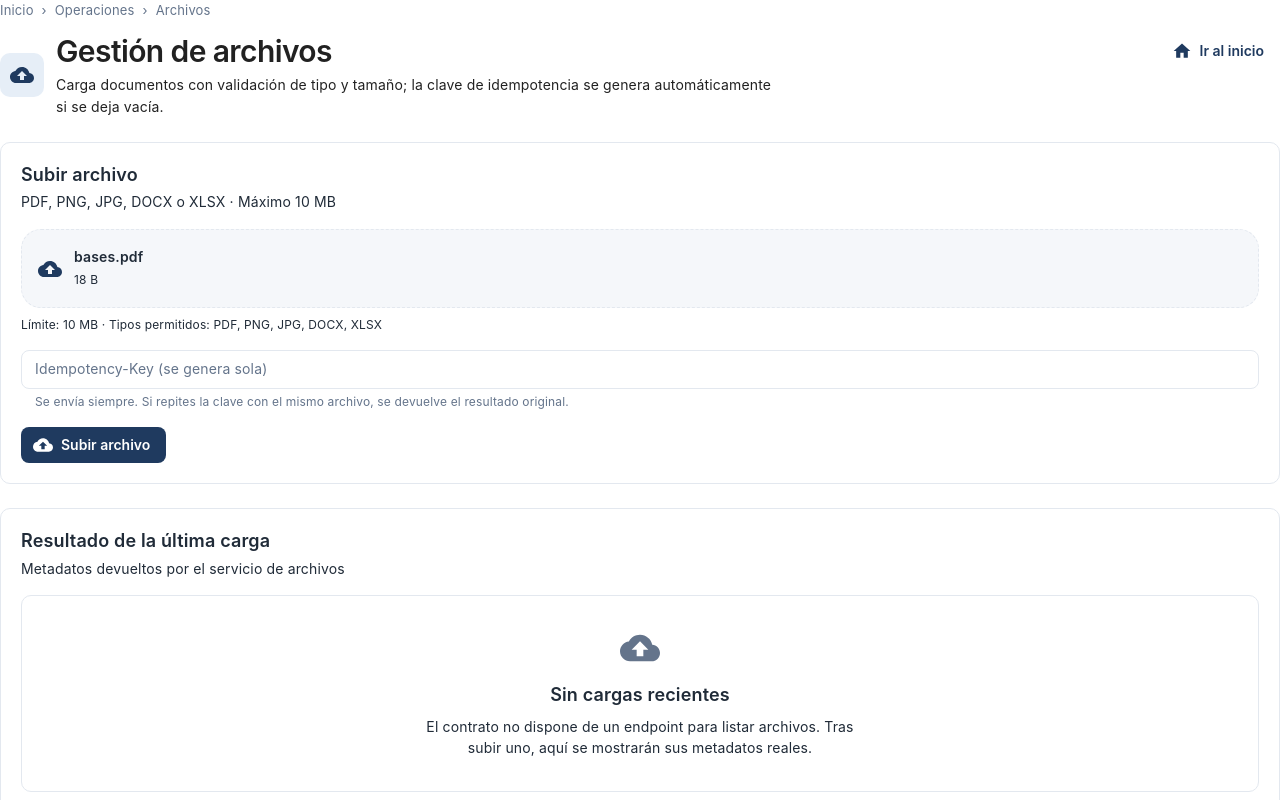
Test case: Subida de archivos › envía una Idempotency-Key generada y acepta el 201 del contrato
Earlier steps of the test are not shown.
Later steps or results of the test are not shown.
Click the button "Subir archivo" at [94, 445], box [21,427,166,463]
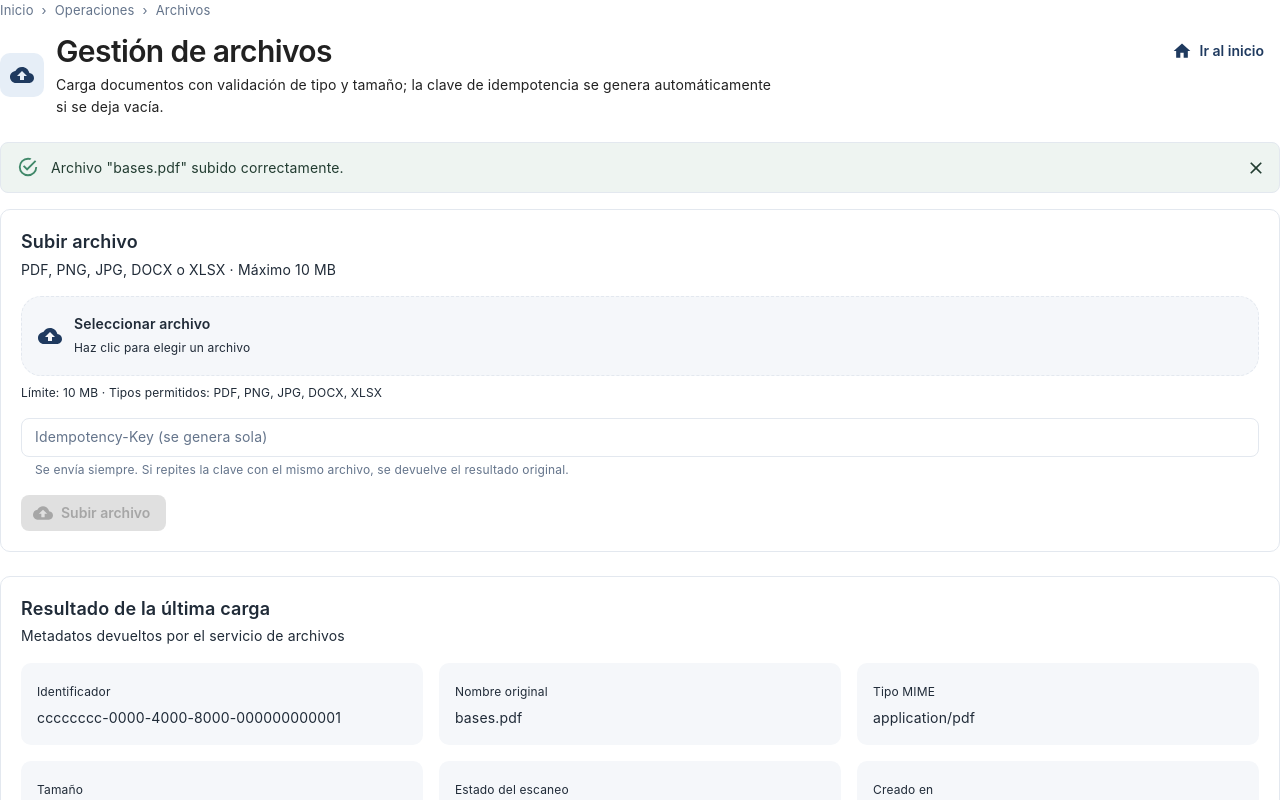
Now the message reads "Archivo \"bases.pdf\" subido correctamente.", box [51,159,344,176]
